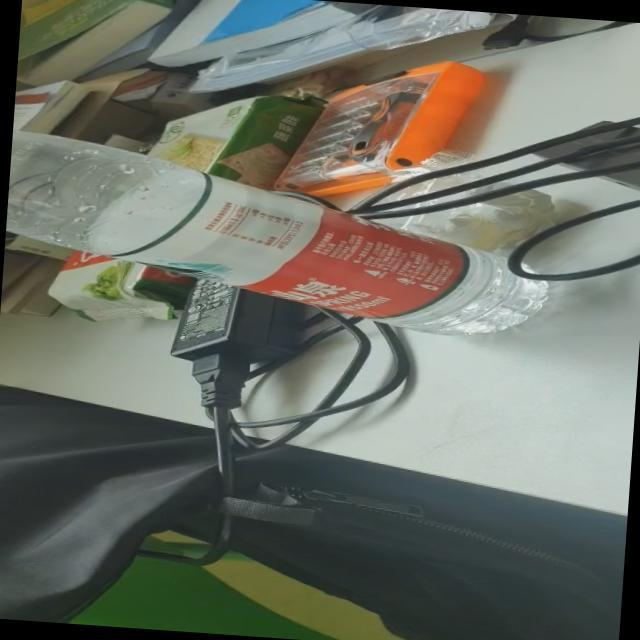good: (1, 122, 560, 343)
